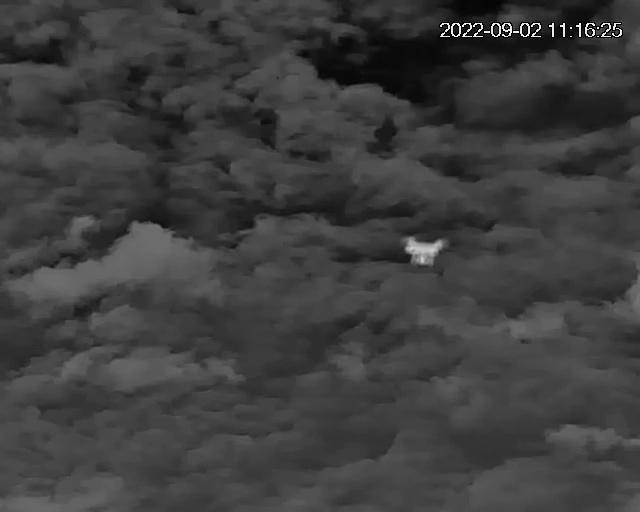DJI-Phantom: (398, 235, 450, 268)
